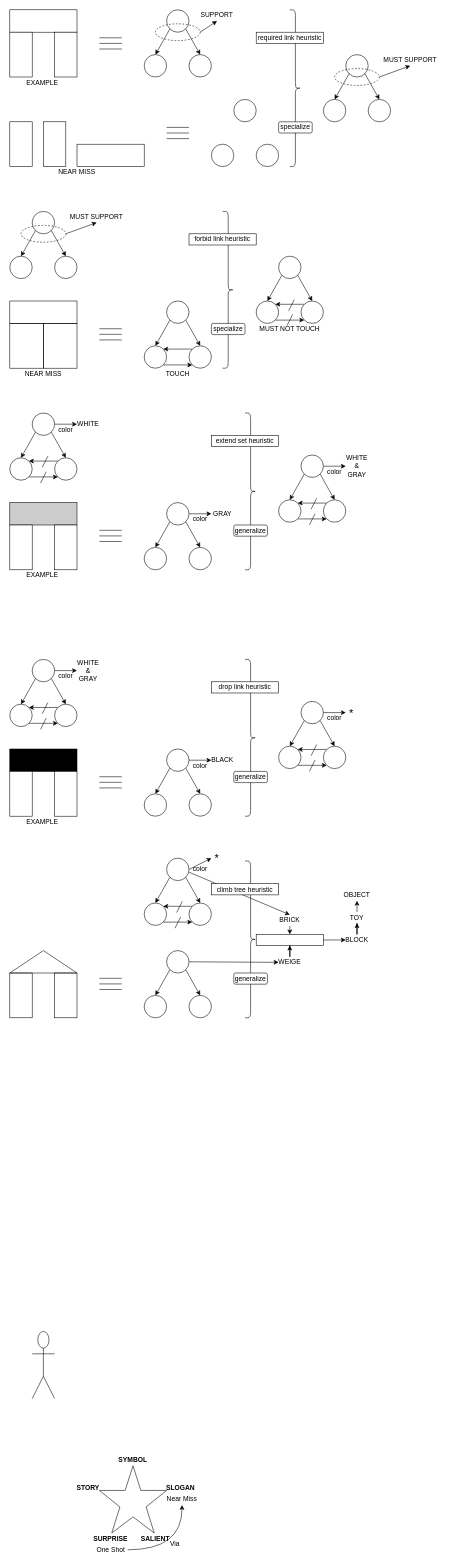
Some shapes in this 451 by 1565 pixel diagram are drawn without their labels. The shapes that lost their labels are listed below. From the top down, each one's centre as x and y in pixels, then its label:
point (289, 940): BRICK & WEIGE
point (43, 1365): Actor
point (133, 1499): Arch
